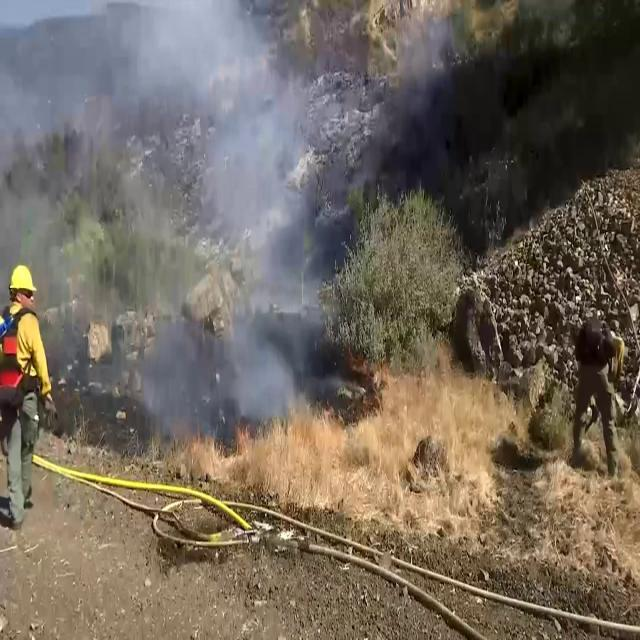Smoke: (0, 0, 334, 418)
